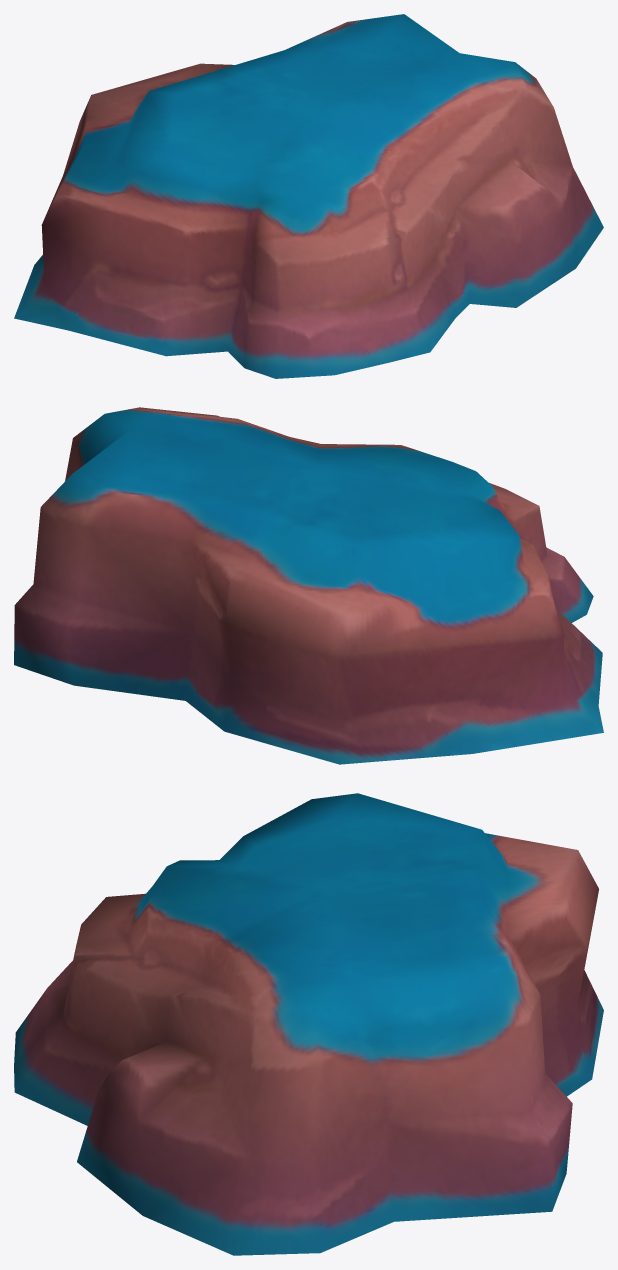
Rendered from nameikexing_shitou06.FBX.
The picture shows the model from 3 angles, top to bottom: view 1: azimuth 30°, elevation 25°; view 2: azimuth 150°, elevation 25°; view 3: azimuth 270°, elevation 25°; orthographic projection. The views are drawn at different scales.
Visible parts, largest first — view 1: nameikexing_shitou06; view 2: nameikexing_shitou06; view 3: nameikexing_shitou06.
Part boxes in pixels (<box>): nameikexing_shitou06: <box>14,14,603,378</box>; nameikexing_shitou06: <box>14,407,603,764</box>; nameikexing_shitou06: <box>14,793,603,1255</box>.
Size of the model in its own units: 1156 by 339 by 849.
